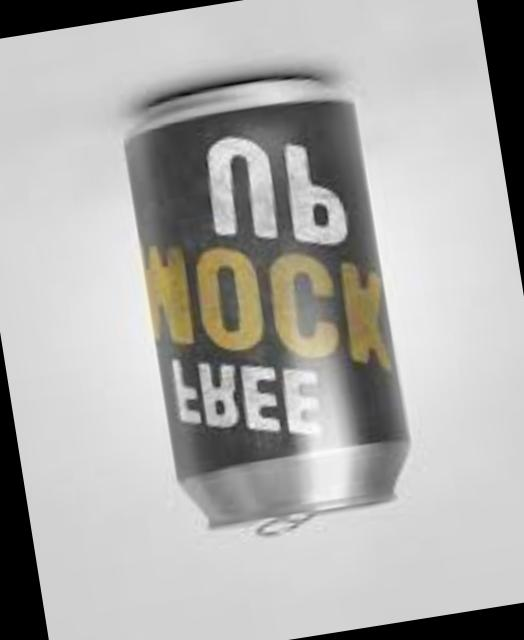metal: (121, 84, 401, 530)
